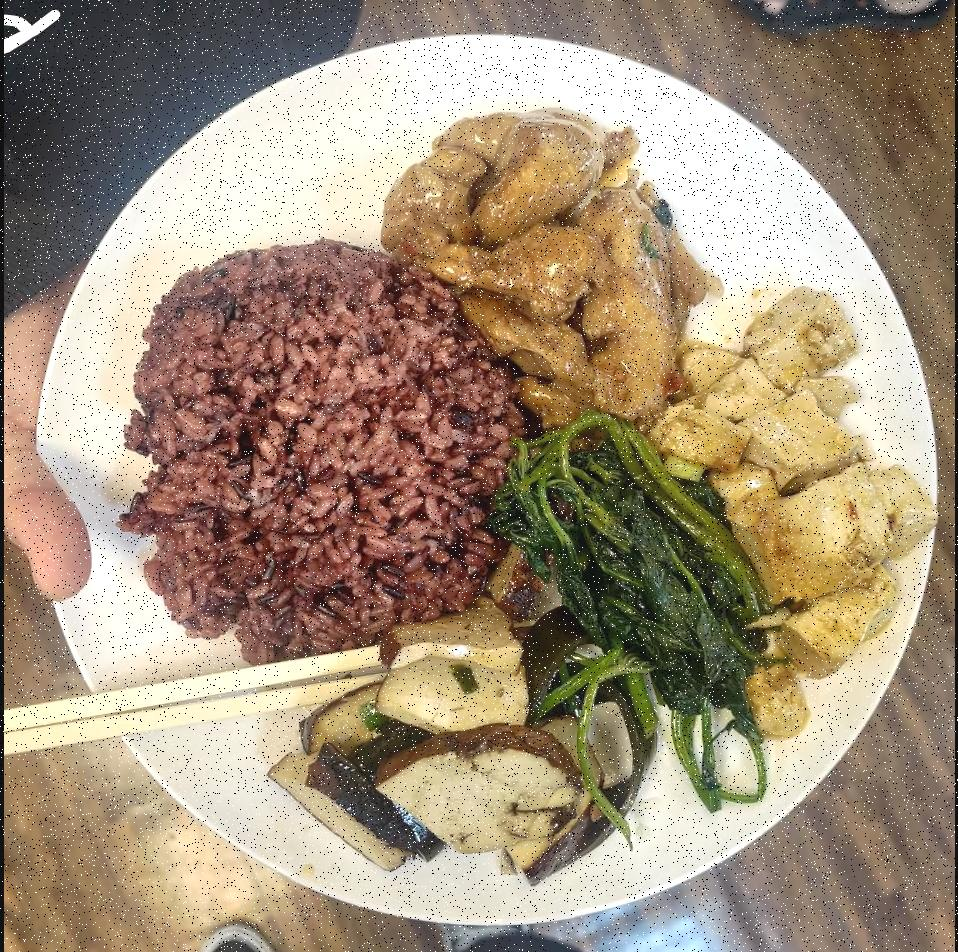big fried chicken leg: (31, 26, 924, 927)
braised fish: (130, 238, 507, 654)
braised fish fillet: (673, 278, 934, 720), (504, 417, 763, 805), (287, 606, 638, 878)
braised pork: (389, 106, 699, 409)
